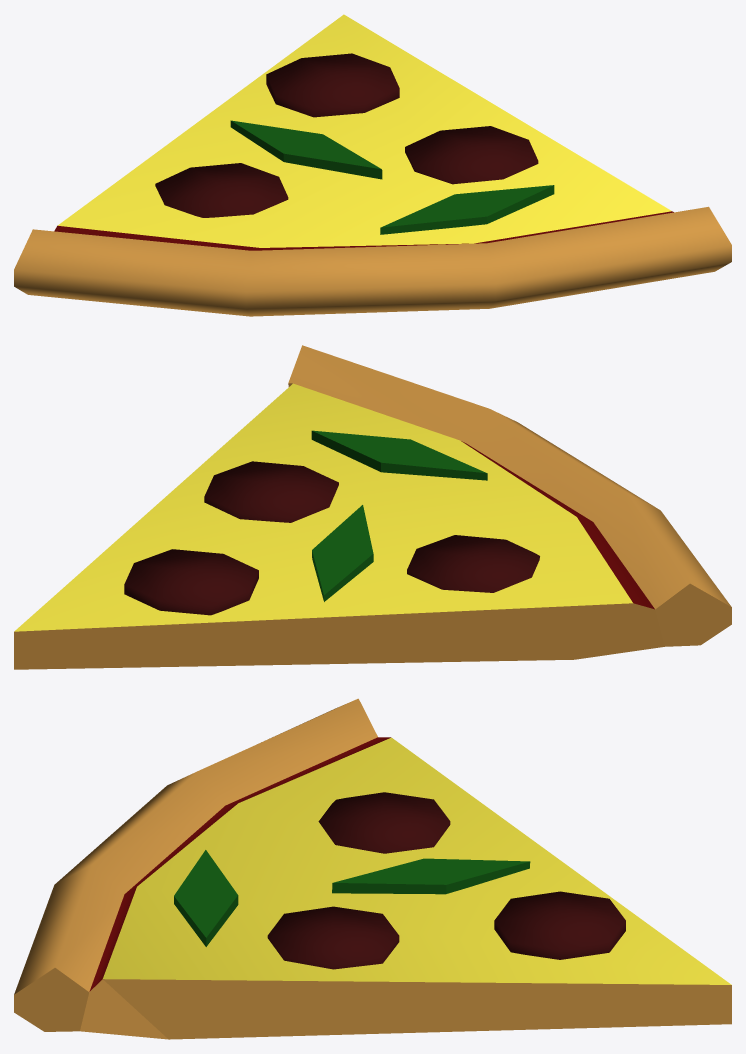
Rendered from Slice004.FBX.
3 views of the same model, one above another, from view 1: azimuth 30°, elevation 25°; view 2: azimuth 150°, elevation 25°; view 3: azimuth 270°, elevation 25° (orthographic). The views are drawn at different scales.
Visible parts, largest first — view 1: Slice004; view 2: Slice004; view 3: Slice004.
Part boxes in pixels (x1,y1,x2,y2): Slice004: [14, 14, 731, 316]; Slice004: [14, 345, 731, 669]; Slice004: [14, 698, 731, 1039].
Size of the model in its own units: 6.81 by 0.8516 by 7.22.
